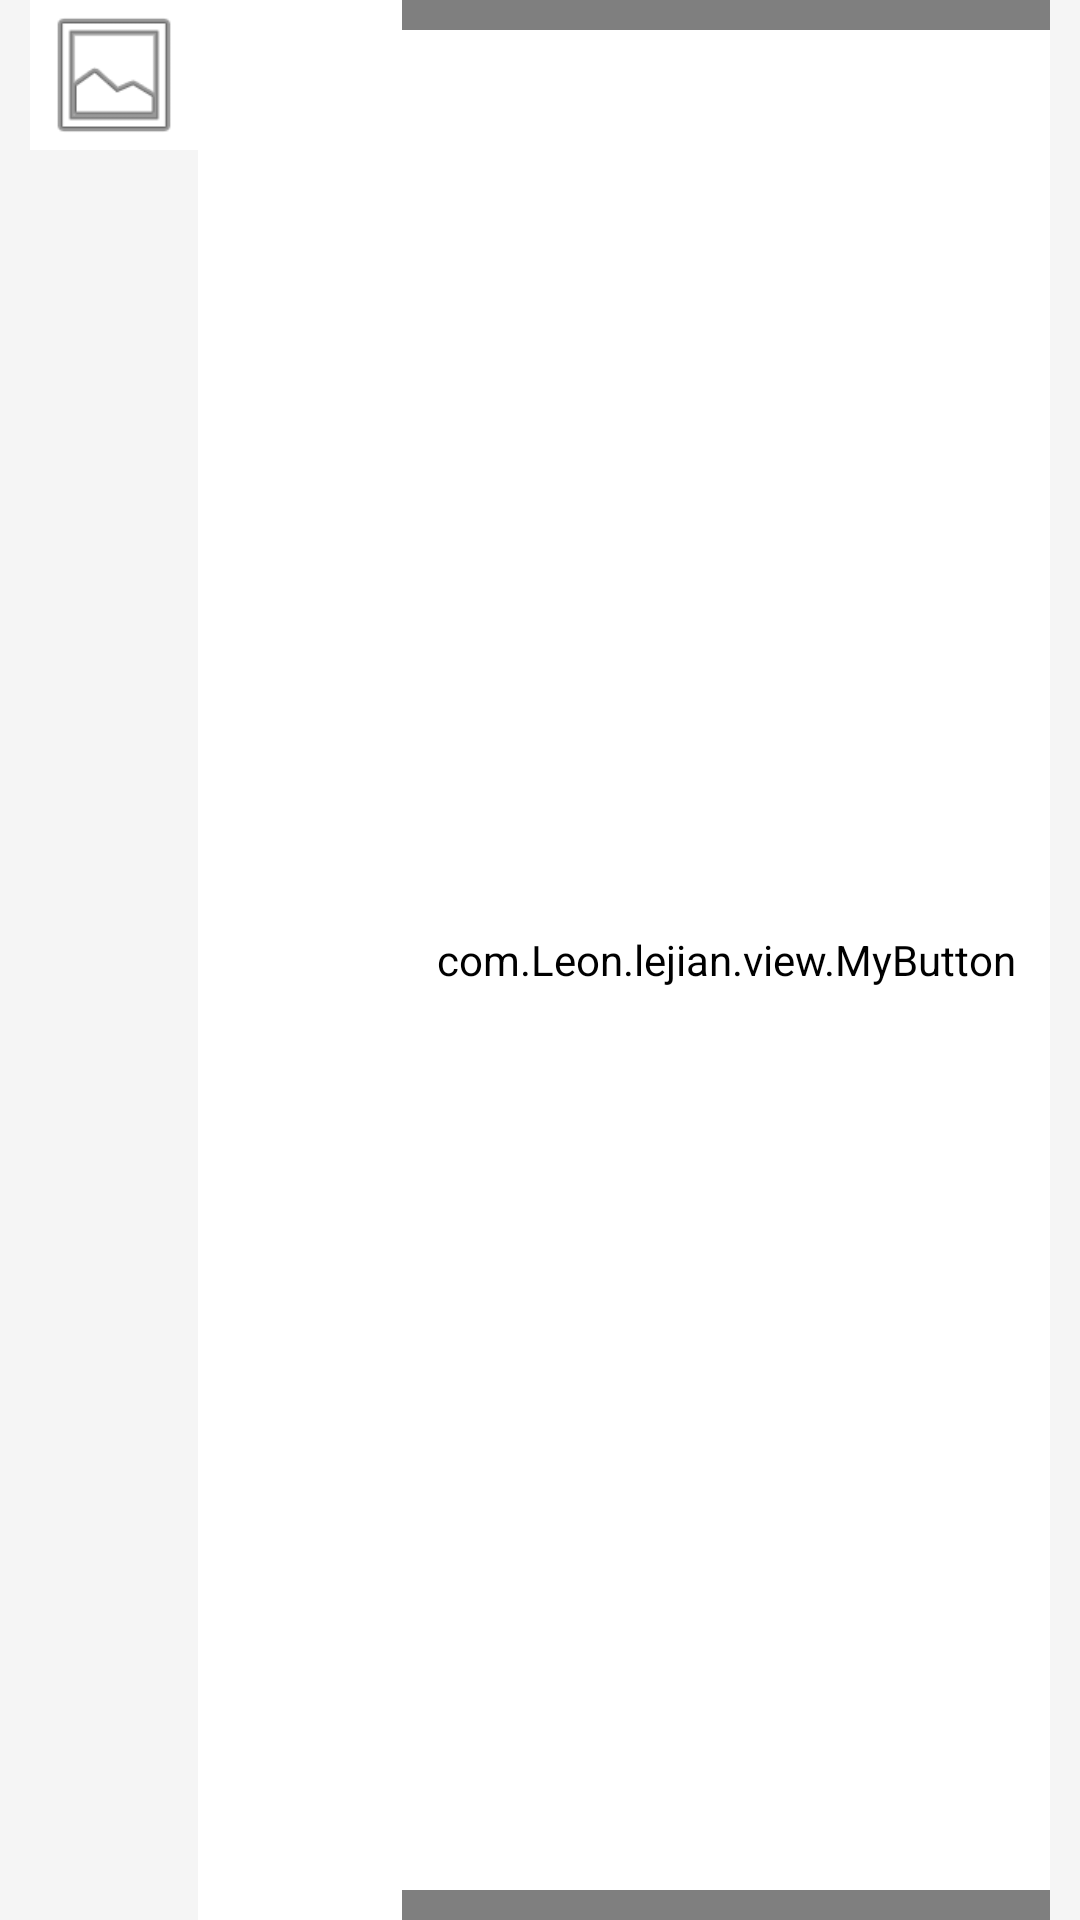

Locate icon controls on the screen. Image size 1080 × 1920, boxes as (x1, y1, x2, y2).
gallery: (57, 18, 171, 132)
